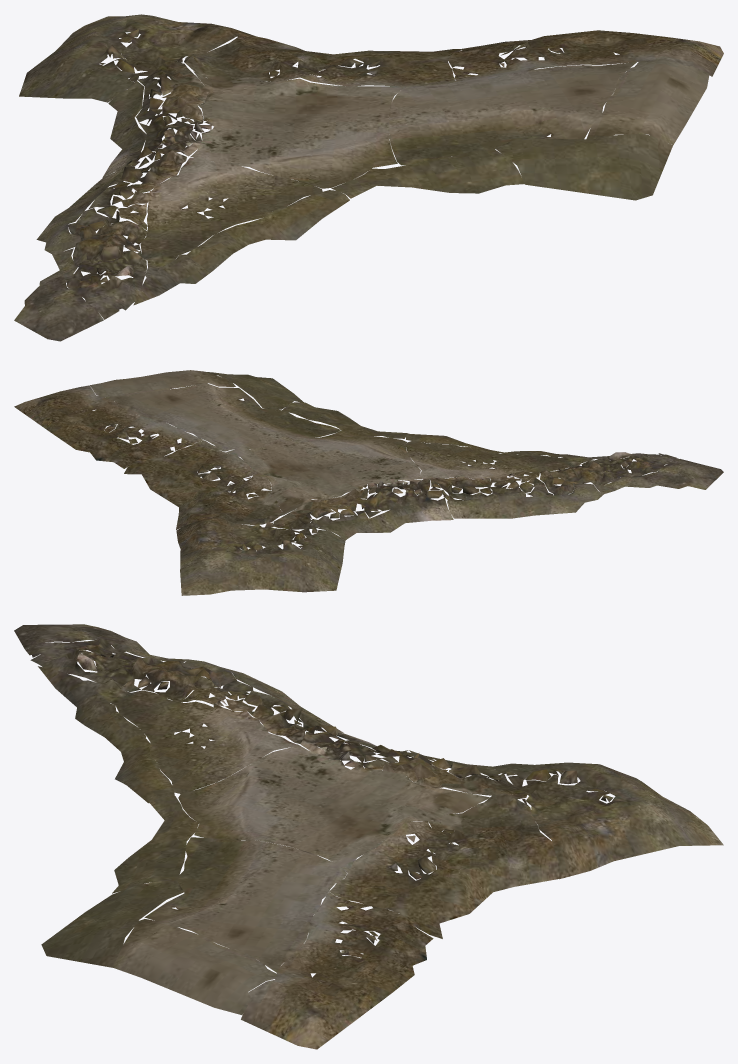
File: ph_coast_rocks.glb
3 renders of one model, top to bottom at view 1: azimuth 30°, elevation 25°; view 2: azimuth 150°, elevation 25°; view 3: azimuth 270°, elevation 25°, orthographic. The views are drawn at different scales.
Parts seen in each view (by area): view 1: coast_rocks_01; view 2: coast_rocks_01; view 3: coast_rocks_01.
Part boxes in pixels (bbox=[...]): coast_rocks_01: bbox=[14, 14, 723, 341]; coast_rocks_01: bbox=[14, 370, 723, 595]; coast_rocks_01: bbox=[14, 624, 723, 1049].
Bounding box in the file's own units: 59.48 × 3.25 × 42.64.
1 material, 1 textured.
